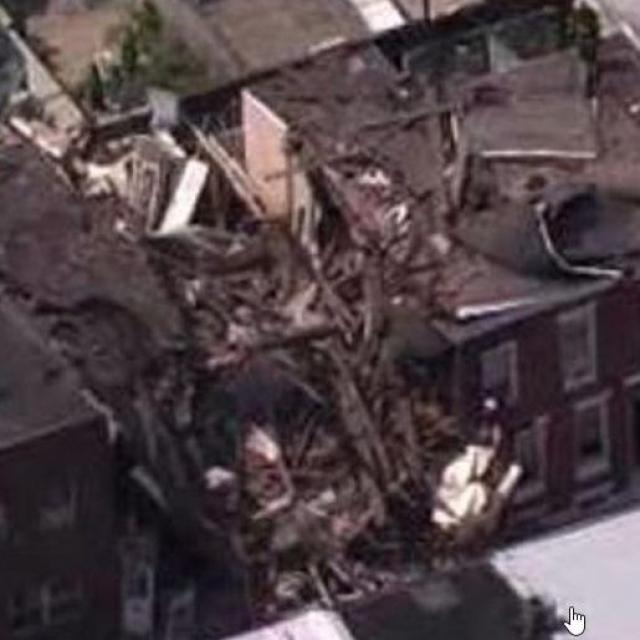collapsed_building: (60, 82, 408, 588)
